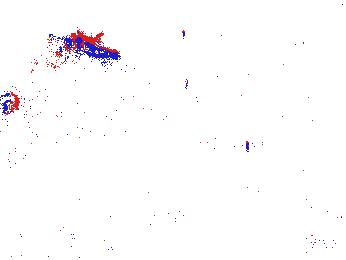X-ray fish: (35, 32, 79, 68)
red belly glassfish: (72, 35, 119, 60), (290, 36, 312, 57), (1, 88, 20, 112)
